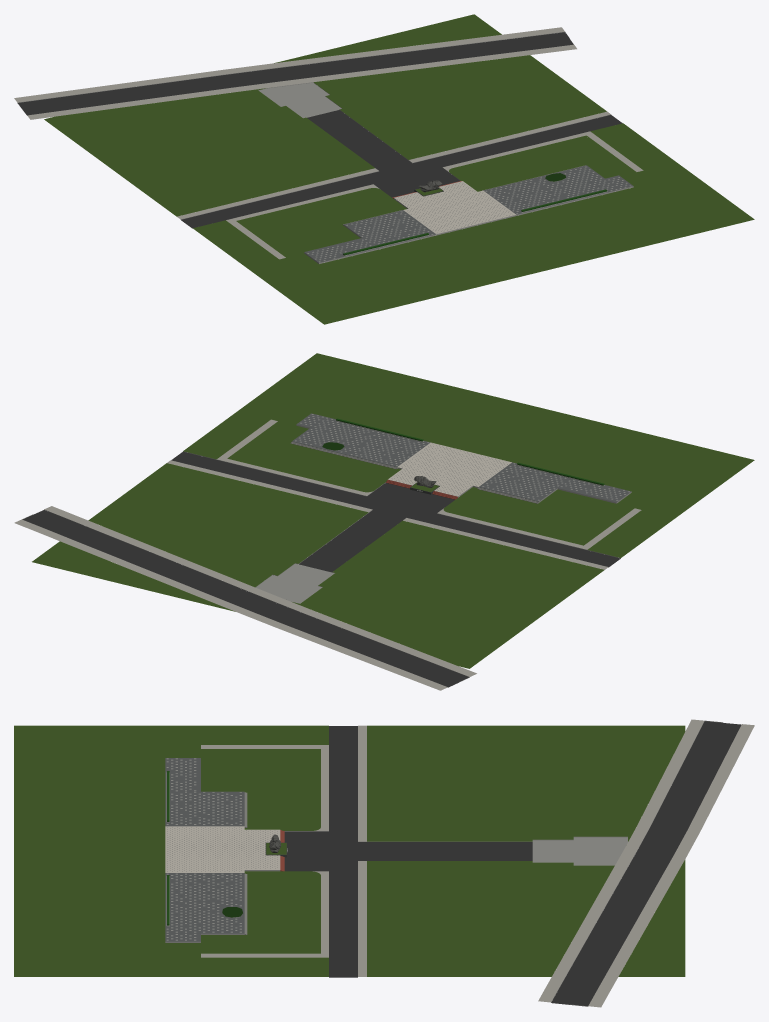
Rendered from site.glb.
3 views of the same model, one above another, from view 1: azimuth 30°, elevation 25°; view 2: azimuth 150°, elevation 25°; view 3: azimuth 270°, elevation 25° (orthographic). The views are drawn at different scales.
Parts seen in each view (by area): view 1: site.ground.base, site.ground.street, site.ground.forecourt.lawns, site.ground.forecourt.side, site.ground.forecourt.road, site.ground.forecourt.paths, site.ground.forecourt.plaza, site.ground.axis.road, site.ground.gate, site.forecourt.hedges; view 2: site.ground.base, site.ground.street, site.ground.forecourt.lawns, site.ground.forecourt.road, site.ground.forecourt.side, site.ground.forecourt.paths, site.ground.forecourt.plaza, site.ground.axis.road, site.ground.gate, site.forecourt.hedges; view 3: site.ground.base, site.ground.street, site.ground.forecourt.lawns, site.ground.forecourt.road, site.ground.forecourt.side, site.ground.forecourt.plaza, site.ground.forecourt.paths, site.ground.axis.road, site.ground.gate.
Part boxes in pixels (left/top/right/bottom): site.ground.base: left=44, top=14, right=754, bottom=324; site.ground.street: left=14, top=27, right=576, bottom=119; site.ground.forecourt.lawns: left=239, top=136, right=633, bottom=256; site.ground.forecourt.side: left=304, top=165, right=633, bottom=263; site.ground.forecourt.road: left=181, top=115, right=622, bottom=228; site.ground.forecourt.paths: left=177, top=111, right=643, bottom=259; site.ground.forecourt.plaza: left=394, top=181, right=516, bottom=235; site.ground.axis.road: left=307, top=110, right=411, bottom=171; site.ground.gate: left=259, top=82, right=341, bottom=118; site.forecourt.hedges: left=343, top=189, right=607, bottom=256; site.ground.base: left=32, top=353, right=754, bottom=668; site.ground.street: left=14, top=506, right=476, bottom=690; site.ground.forecourt.lawns: left=230, top=422, right=631, bottom=544; site.ground.forecourt.road: left=171, top=451, right=620, bottom=567; site.ground.forecourt.side: left=292, top=413, right=631, bottom=503; site.ground.forecourt.paths: left=167, top=419, right=641, bottom=569; site.ground.forecourt.plaza: left=388, top=442, right=511, bottom=497; site.ground.axis.road: left=299, top=510, right=405, bottom=572; site.ground.gate: left=256, top=563, right=334, bottom=603; site.forecourt.hedges: left=335, top=418, right=604, bottom=486; site.ground.base: left=14, top=725, right=685, bottom=976; site.ground.street: left=538, top=719, right=754, bottom=1007; site.ground.forecourt.lawns: left=201, top=749, right=320, bottom=953; site.ground.forecourt.road: left=284, top=726, right=357, bottom=977; site.ground.forecourt.side: left=165, top=758, right=244, bottom=942; site.ground.forecourt.plaza: left=165, top=826, right=280, bottom=872; site.ground.forecourt.paths: left=201, top=725, right=366, bottom=976; site.ground.axis.road: left=358, top=842, right=532, bottom=860; site.ground.gate: left=532, top=837, right=627, bottom=865.
Size of what is drawn, in the model's own units: 179 by 3.86 by 194.
